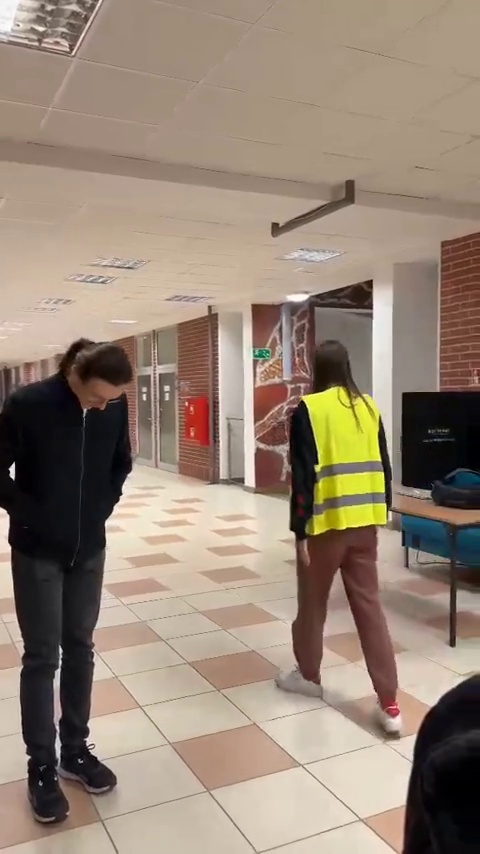no vest: (5, 332, 139, 833)
vest: (286, 340, 420, 751)
